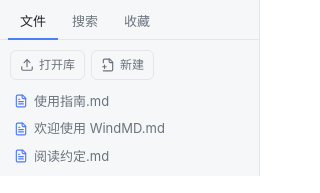
Test: Sidebar — 文件树渲染 › Escape 关闭菜单
The image size is (320, 193).
Right-click the text "使用指南.md" at (72, 100), box [34,92,109,108]
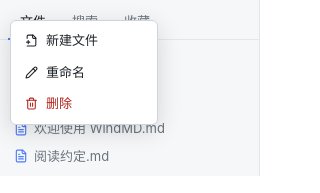
Expected: the menu with class "tree-menu" is shown, [10,20,158,124]
Press Escape
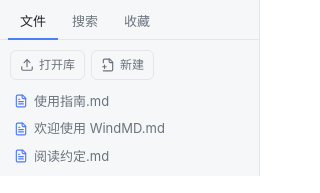
Expected: the menu with class "tree-menu" is gone
